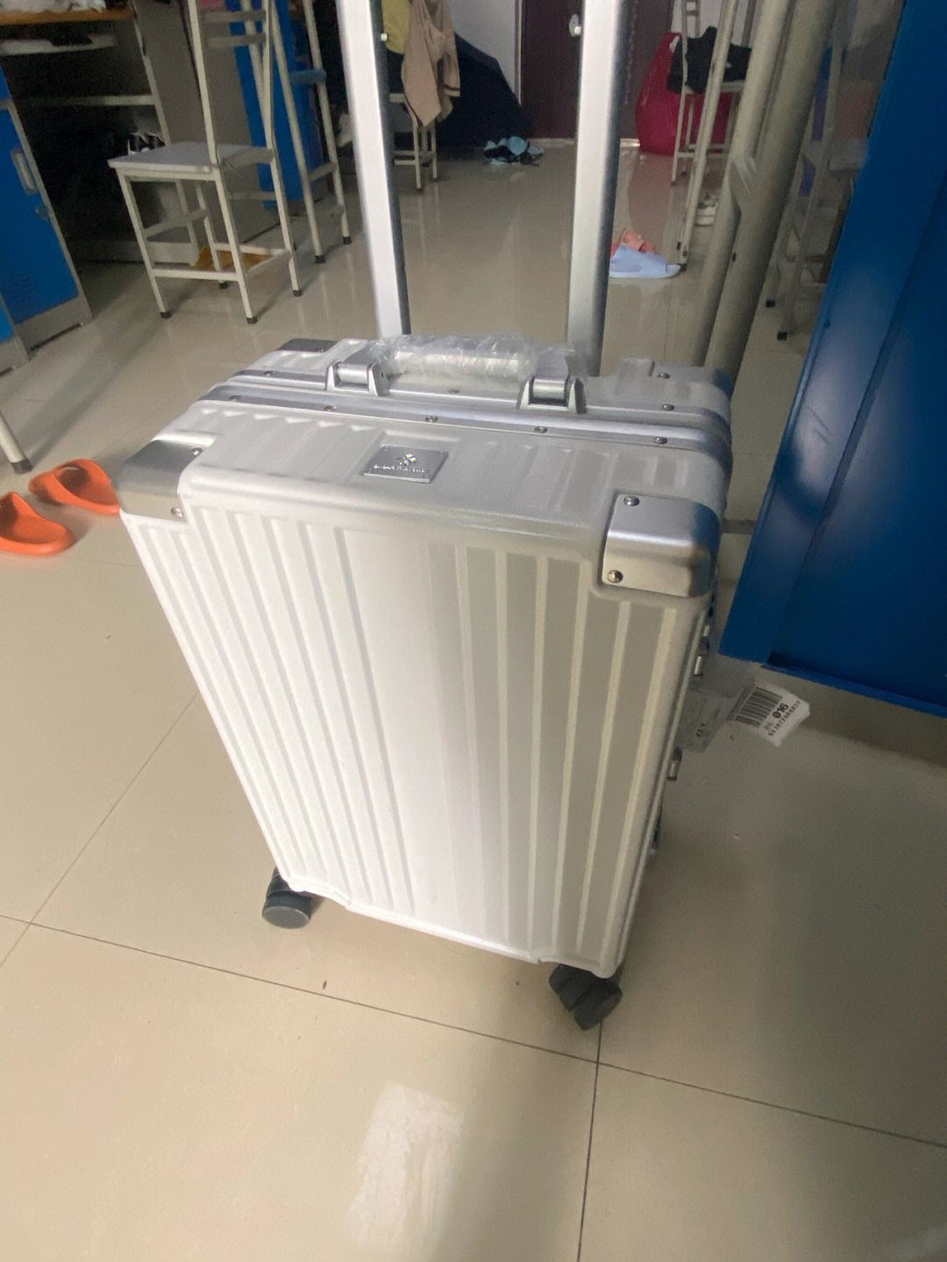box: (111, 337, 732, 986)
handle: (326, 338, 583, 415)
wheel: (546, 963, 623, 1030), (261, 865, 311, 929)
